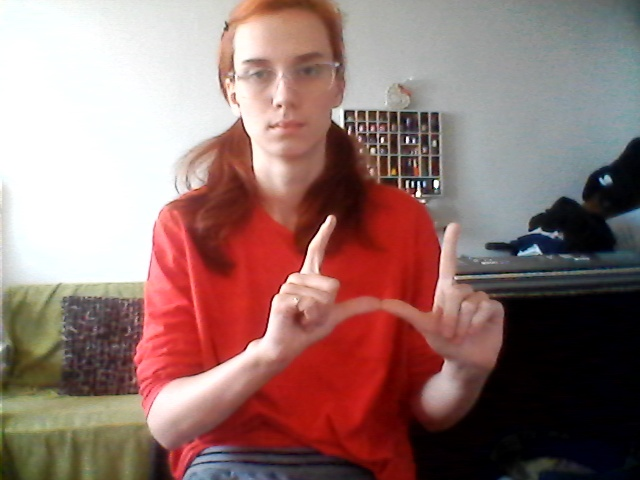u: (264, 203, 515, 384)
